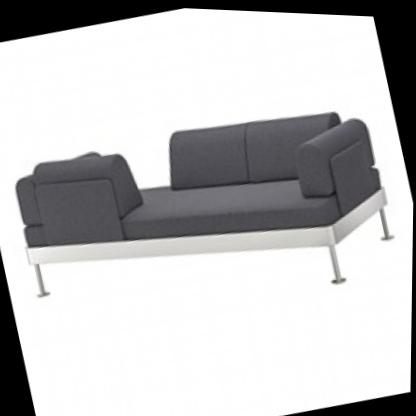Sofa: (0, 53, 413, 357)
